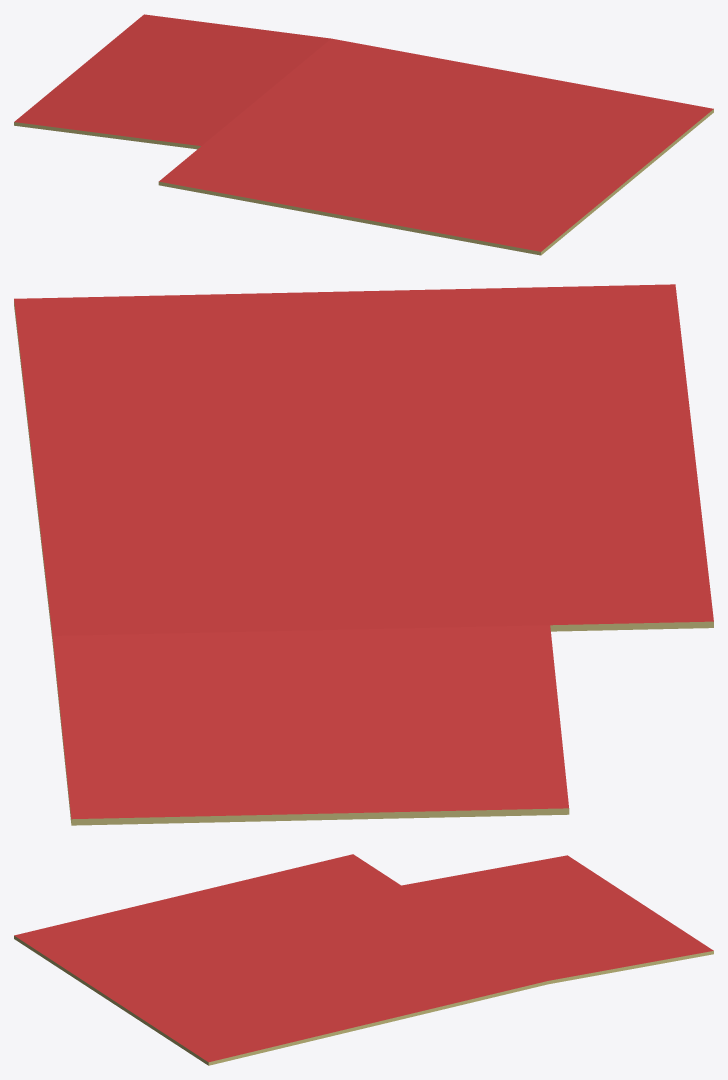
3 views of the same model, one above another, from view 1: azimuth 30°, elevation 25°; view 2: azimuth 150°, elevation 25°; view 3: azimuth 270°, elevation 25° (orthographic). The views are drawn at different scales.
Size of the model in its own units: 14.47 by 18.3 by 0.875.
